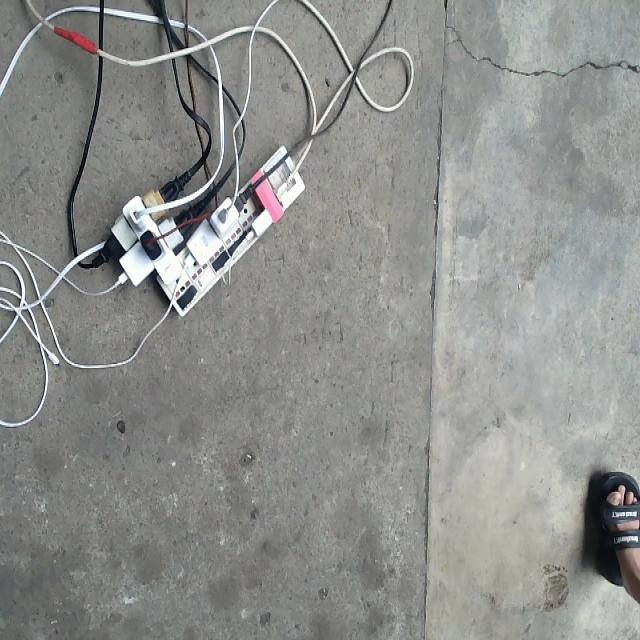-: (103, 143, 302, 317)
